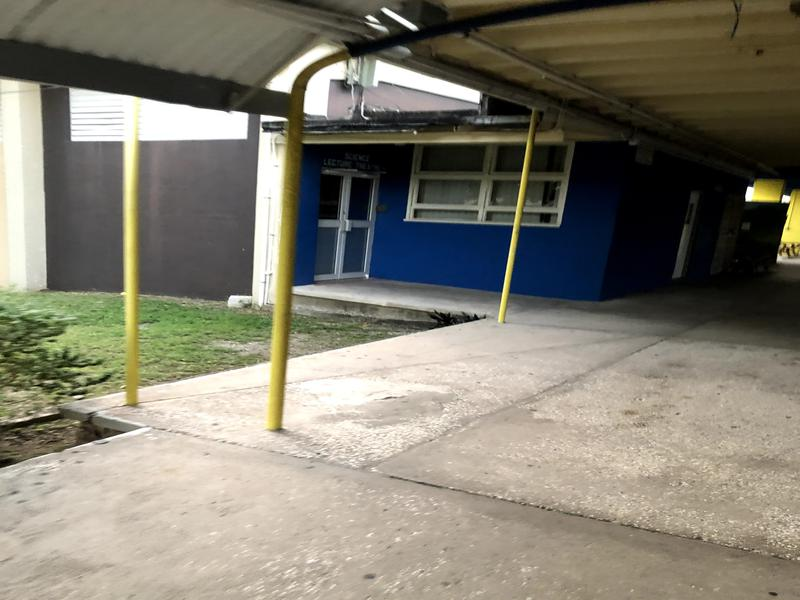18.0051836_-76.7497262_pclt1: (307, 154, 391, 301)
